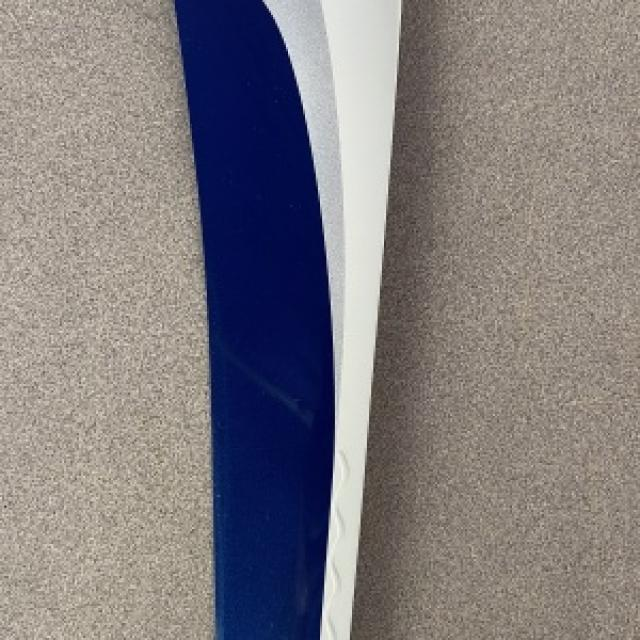healthy: (352, 0, 638, 638), (173, 0, 331, 638)
